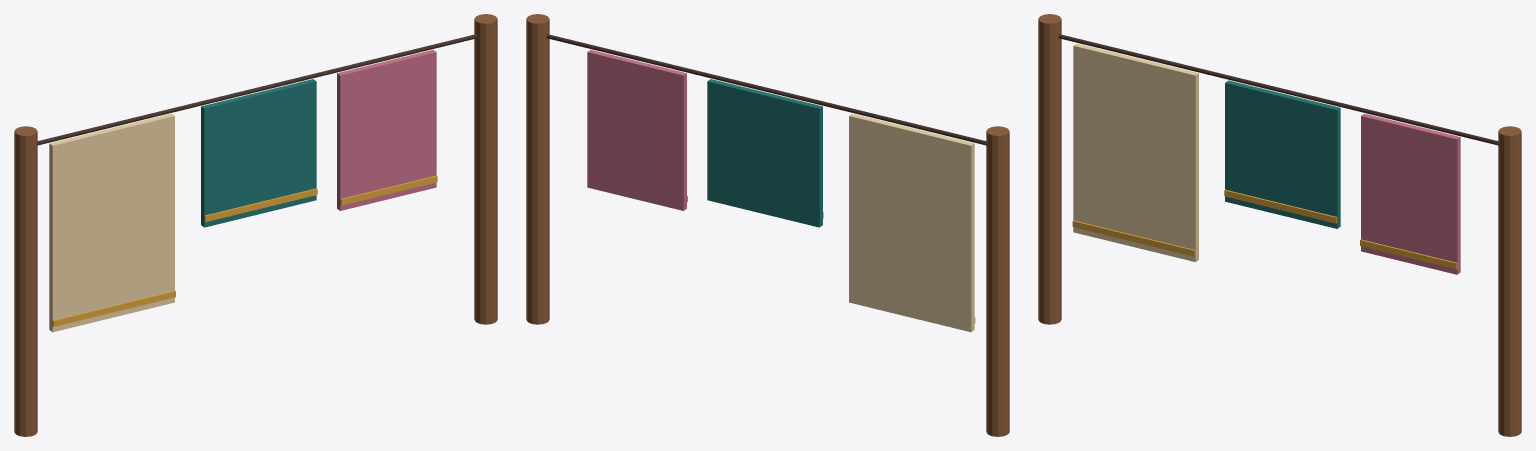
The model's file is 063_courtyard_clothesline.glb.
3 renders of one model, left to right at view 1: azimuth 30°, elevation 25°; view 2: azimuth 150°, elevation 25°; view 3: azimuth 330°, elevation 25°, orthographic.
Visible parts, largest first — view 1: Courtyard clothesline; view 2: Courtyard clothesline; view 3: Courtyard clothesline.
Boxes of the visible parts, x1,y1,x2,y2 form: Courtyard clothesline: [14, 14, 497, 436]; Courtyard clothesline: [526, 14, 1009, 436]; Courtyard clothesline: [1038, 14, 1521, 436].
Size of the model in its own units: 3.34 by 2 by 0.14.
